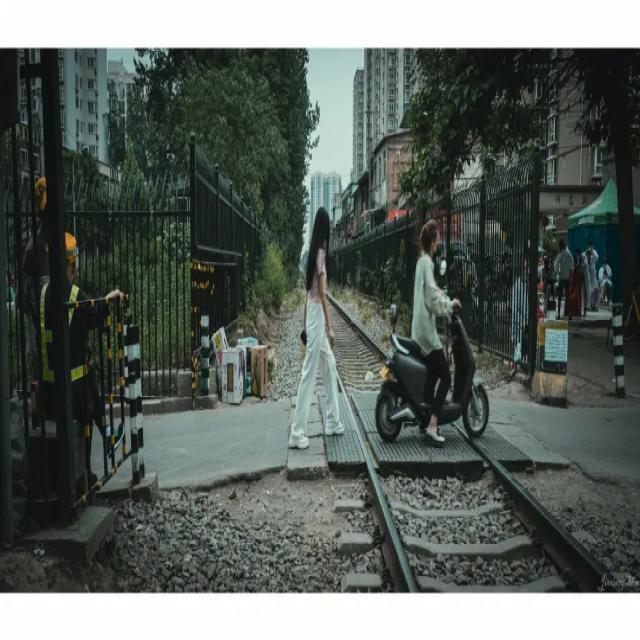people: (400, 220, 455, 456), (300, 181, 340, 466)
vehicle: (374, 312, 491, 468)
